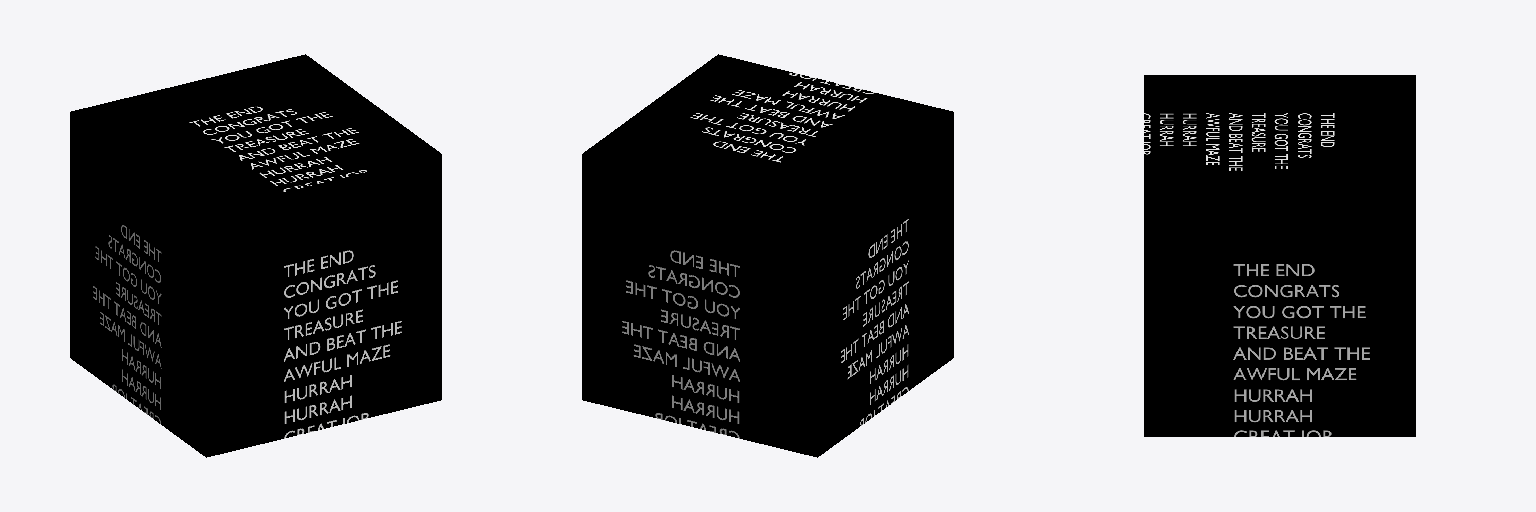
3 views of the same model, side by side, from view 1: azimuth 30°, elevation 25°; view 2: azimuth 150°, elevation 25°; view 3: azimuth 270°, elevation 25° (orthographic).
Parts seen in each view (by area): view 1: Cube; view 2: Cube; view 3: Cube.
Part boxes in pixels (x1,y1,x2,y2): Cube: (70,54,441,457); Cube: (582,54,953,457); Cube: (1144,75,1415,436).
Bounding box in the file's own units: 10 × 10 × 10.
Materials: 1 (1 with a texture image).